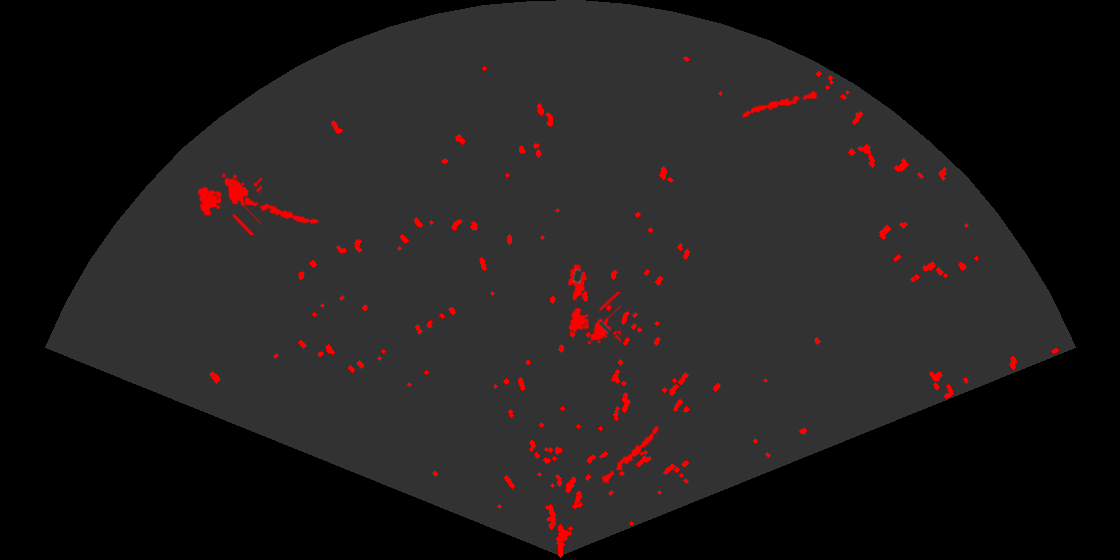AUV: (566, 262, 589, 303)
cage: (196, 172, 262, 235), (567, 292, 621, 346)
chain: (596, 424, 660, 491), (237, 196, 321, 226), (740, 89, 819, 119)
